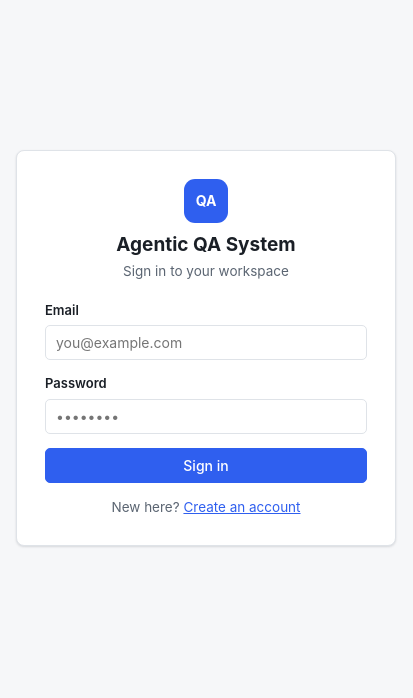
Test: LoginPage › can switch back to the sign-in form
Click the button "Create an account": (242, 507) [183,497,300,517]
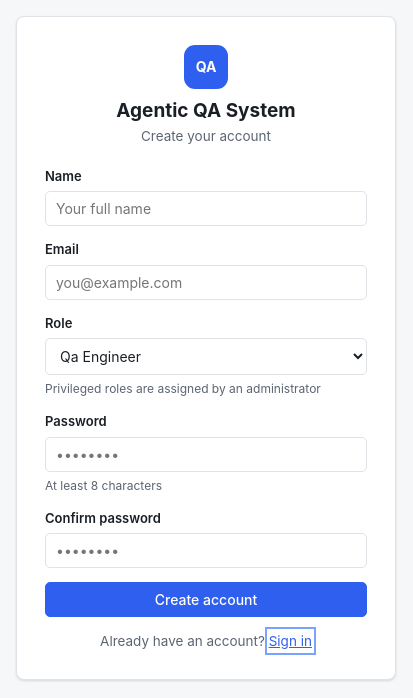
Check: the password field labelled "Confirm password" is shown, box [45,533,367,568]
Click the button "Sign in": (290, 641) [269,631,312,651]
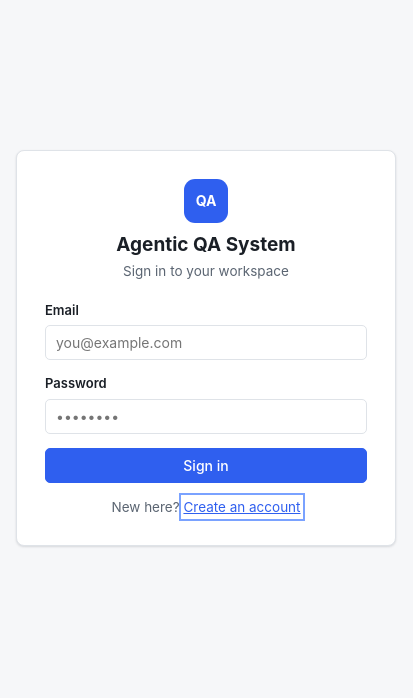
Check: the label labelled "Confirm password" is gone
Check: the button "Sign in" is shown, box [45,448,367,483]
